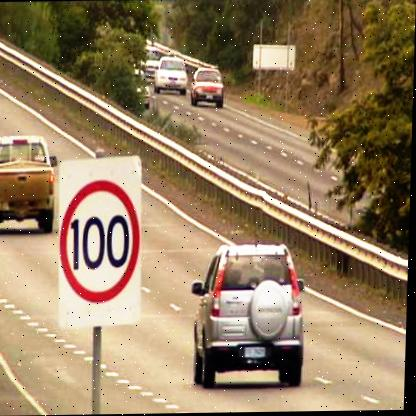Speed Limit -100-: (52, 181, 146, 306)
